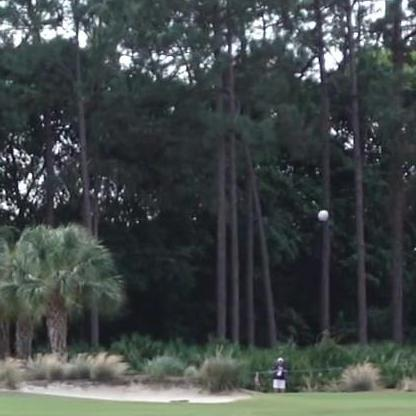golfball: (316, 208, 328, 221)
